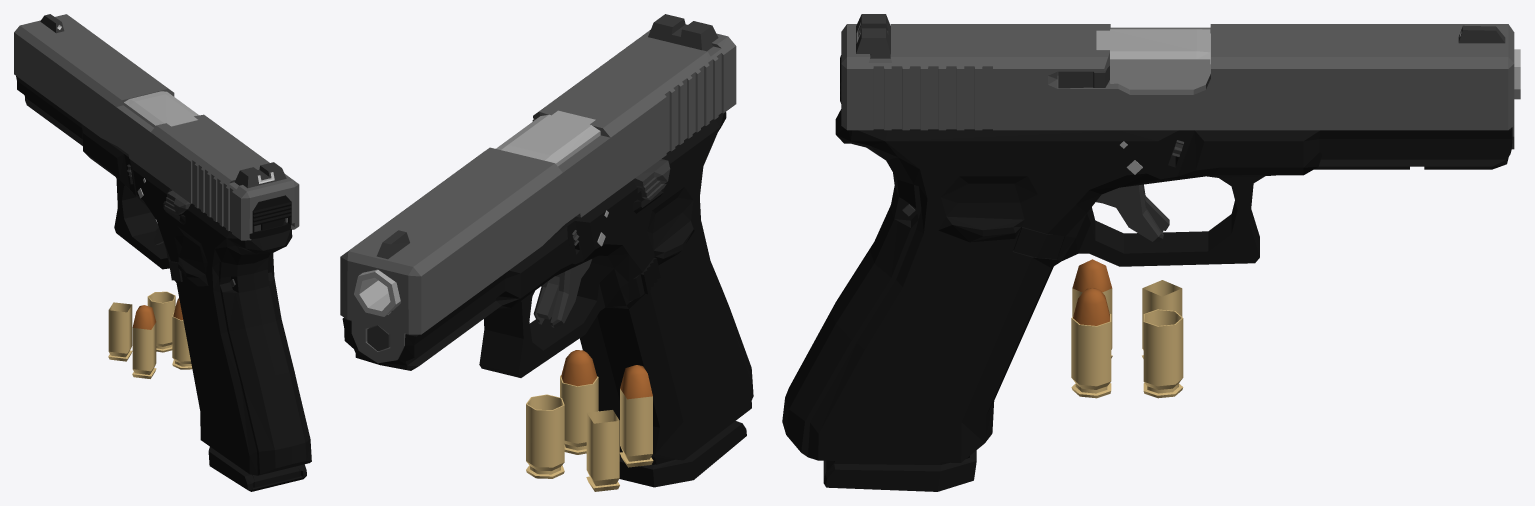
3 renders of one model, left to right at view 1: azimuth 30°, elevation 25°; view 2: azimuth 150°, elevation 25°; view 3: azimuth 270°, elevation 25°, orthographic. The views are drawn at different scales.
Visible parts, largest first — view 1: unnamed (×12); view 2: unnamed (×17); view 3: unnamed (×14).
Part boxes in pixels (<box>): unnamed (×12): <box>14,14,311,491</box>; unnamed (×17): <box>340,14,753,491</box>; unnamed (×14): <box>782,14,1520,491</box>.
Bounding box in the file's own units: 0.0438 × 0.1404 × 0.2112.
